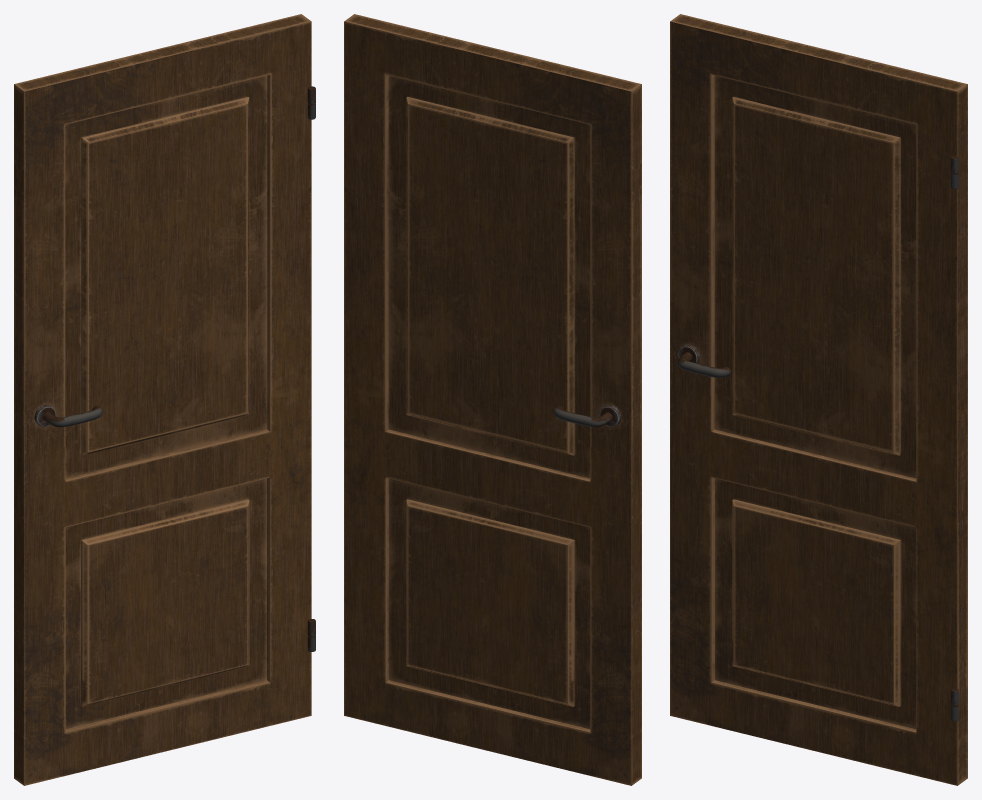
File: WoodDoor.fbx
3 views of the same model, side by side, from view 1: azimuth 30°, elevation 25°; view 2: azimuth 150°, elevation 25°; view 3: azimuth 330°, elevation 25° (orthographic).
Parts seen in each view (by area): view 1: Cylinder; view 2: Cylinder; view 3: Cylinder.
Boxes of the visible parts, left/top/right/bottom form: Cylinder: left=14, top=14, right=315, bottom=785; Cylinder: left=344, top=14, right=641, bottom=785; Cylinder: left=670, top=14, right=967, bottom=785.
Size of the model in its own units: 2.58 by 5.91 by 0.6178.
